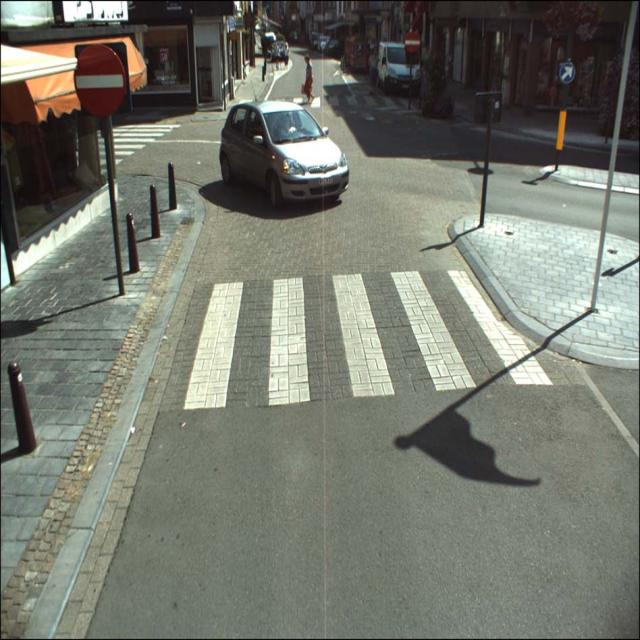girisyok: (74, 45, 127, 116)
